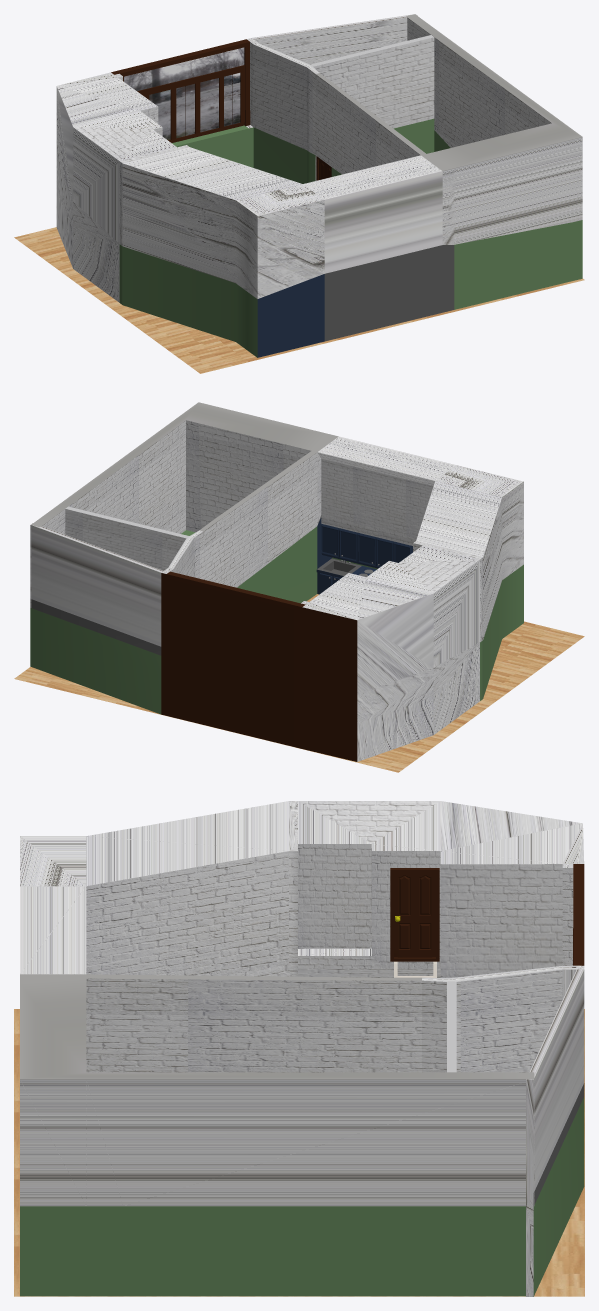
File: HouseBase.dae
The picture shows the model from 3 angles, top to bottom: view 1: azimuth 30°, elevation 25°; view 2: azimuth 150°, elevation 25°; view 3: azimuth 270°, elevation 25°; orthographic projection. The views are drawn at different scales.
Visible parts, largest first — view 1: AirConditioning_Ladder_polySurface2; view 2: AirConditioning_Ladder_polySurface2; view 3: AirConditioning_Ladder_polySurface2.
Part boxes in pixels (left/top/right/bottom): AirConditioning_Ladder_polySurface2: left=14, top=14, right=584, bottom=373; AirConditioning_Ladder_polySurface2: left=14, top=402, right=584, bottom=772; AirConditioning_Ladder_polySurface2: left=14, top=801, right=584, bottom=1296.
Bounding box in the file's own units: 140 × 49.76 × 118.
